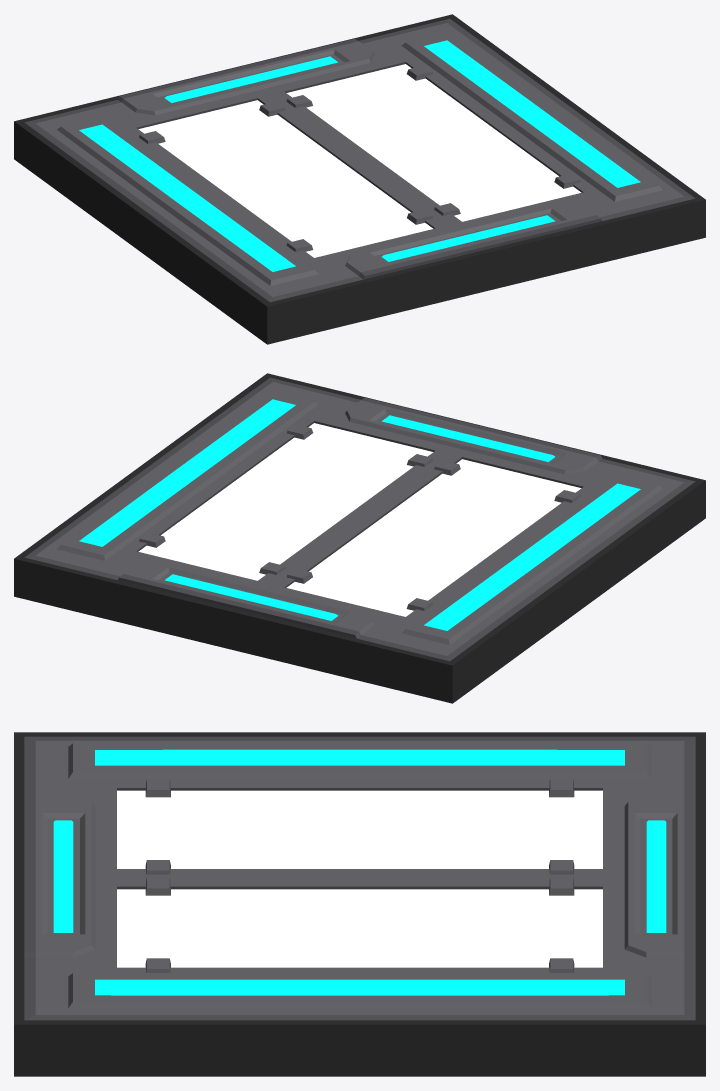
Rendered from SM_Bld_Floor_Small_03.fbx.
3 views of the same model, one above another, from view 1: azimuth 30°, elevation 25°; view 2: azimuth 150°, elevation 25°; view 3: azimuth 270°, elevation 25° (orthographic). The views are drawn at different scales.
Visible parts, largest first — view 1: SM_Bld_Floor_Small_03_LOD0; view 2: SM_Bld_Floor_Small_03_LOD0; view 3: SM_Bld_Floor_Small_03_LOD0.
Part boxes in pixels (box(x1,y1,x2,y2)): SM_Bld_Floor_Small_03_LOD0: box(14, 14, 705, 344); SM_Bld_Floor_Small_03_LOD0: box(14, 373, 705, 703); SM_Bld_Floor_Small_03_LOD0: box(14, 732, 705, 1076).
Size of the model in its own units: 250 by 250 by 23.02.
Materials: 1 (1 with a texture image).
